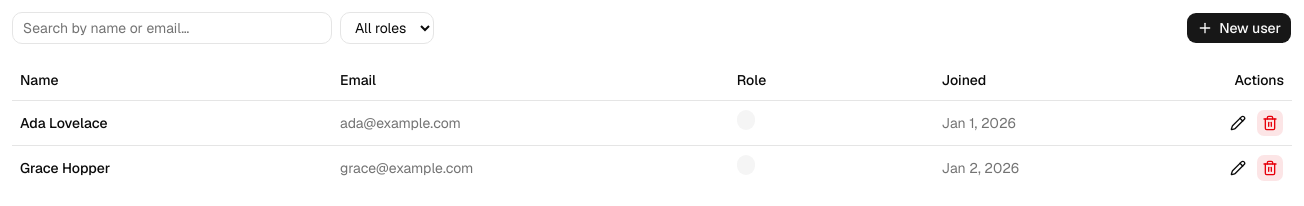
Test case: UsersView › shows a 'no users match' message when search and role together match nothing
This screenshot has width=1304, height=206.
Expected: the text "grace@example.com" is shown, x1=332 y1=145 x2=729 y2=190
Type "nobody-matches-this" into the field named "Search users".
click(172, 28); type("nobody-matches-this")  # box x1=12 y1=12 x2=332 y2=44
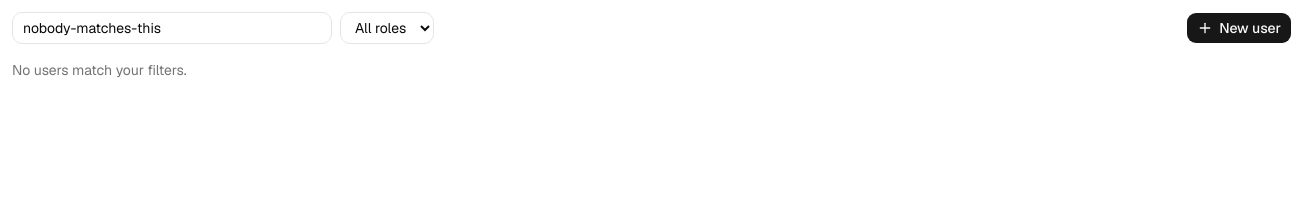
Expected: the text "No users match your filters." is shown, x1=12 y1=61 x2=187 y2=79
